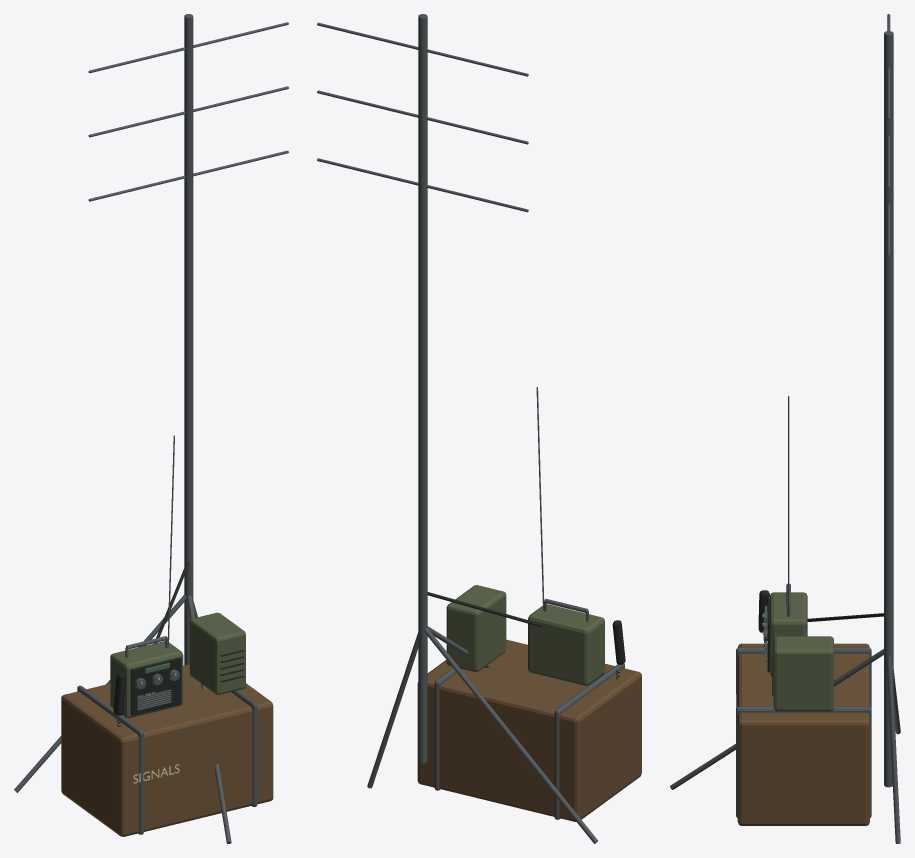
The model's file is RadioStation.fbx.
3 views of the same model, side by side, from view 1: azimuth 30°, elevation 25°; view 2: azimuth 150°, elevation 25°; view 3: azimuth 270°, elevation 25° (orthographic). The views are drawn at different scales.
Parts seen in each view (by area): view 1: RadioStation; view 2: RadioStation; view 3: RadioStation.
Part boxes in pixels (x1=…): RadioStation: x1=14, y1=14, x2=288, y2=843; RadioStation: x1=317, y1=14, x2=641, y2=843; RadioStation: x1=670, y1=14, x2=900, y2=843.
Size of the model in its own units: 176 by 122 by 461.
